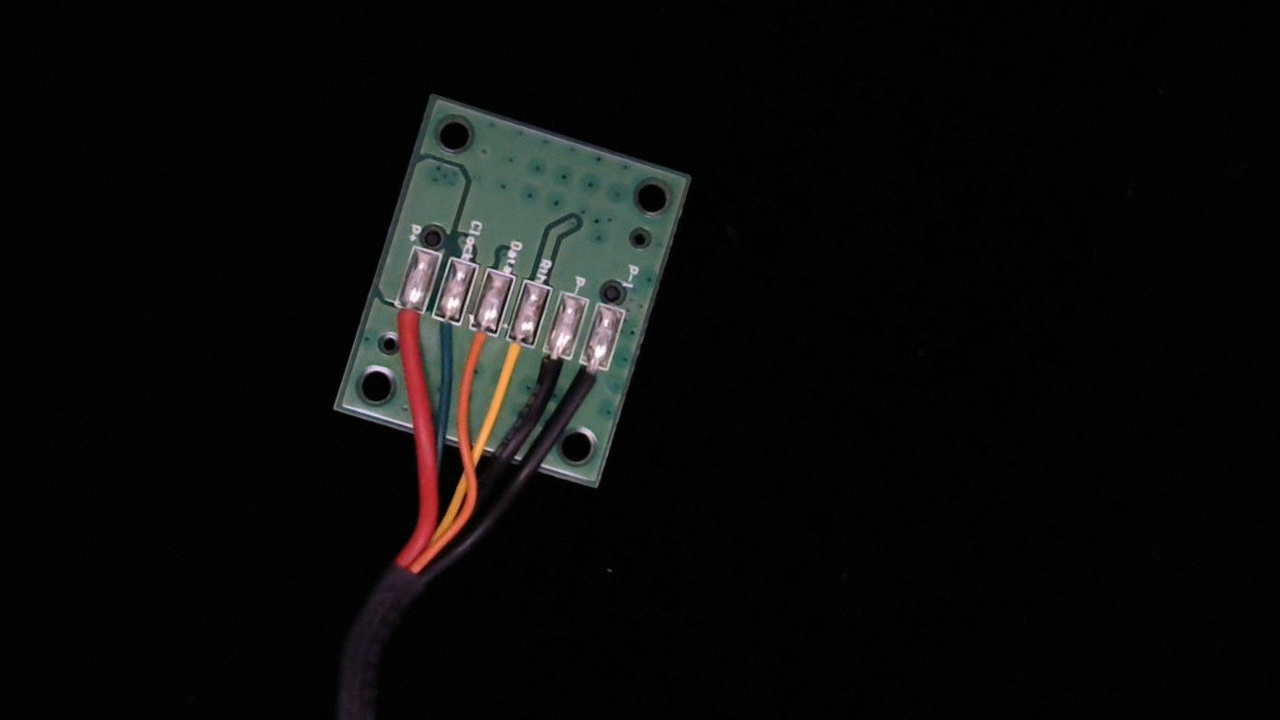Black: (524, 339, 575, 413)
Black1: (565, 350, 613, 419)
Green: (419, 300, 467, 366)
Orange: (452, 313, 502, 389)
Red: (380, 289, 431, 356)
Yellow: (485, 325, 541, 400)
